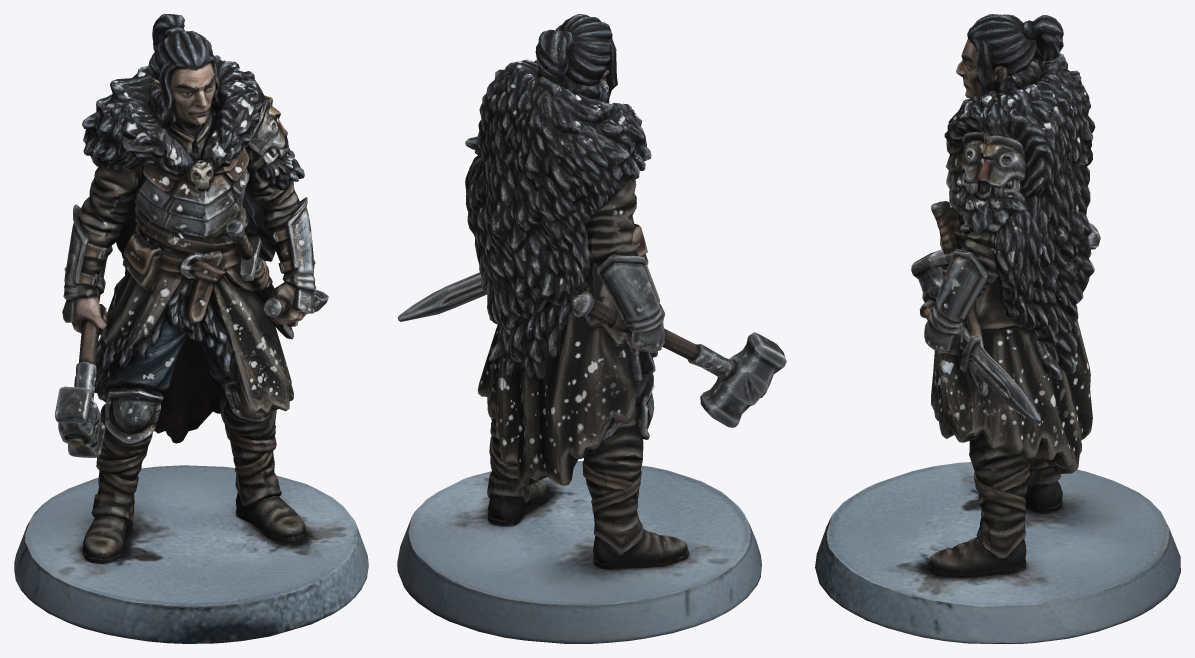
The model's file is grimgeir.glb.
The picture shows the model from 3 angles, left to right: view 1: azimuth 30°, elevation 25°; view 2: azimuth 150°, elevation 25°; view 3: azimuth 270°, elevation 25°; orthographic projection. The views are drawn at different scales.
Visible parts, largest first — view 1: output_unwrapped; view 2: output_unwrapped; view 3: output_unwrapped.
Part boxes in pixels (box(x1,y1,x2,y2)): output_unwrapped: box(14, 14, 368, 643); output_unwrapped: box(397, 14, 786, 643); output_unwrapped: box(815, 14, 1180, 643).
Bounding box in the file's own units: 1.2 × 1.9 × 1.14.
1 material, 1 textured.
